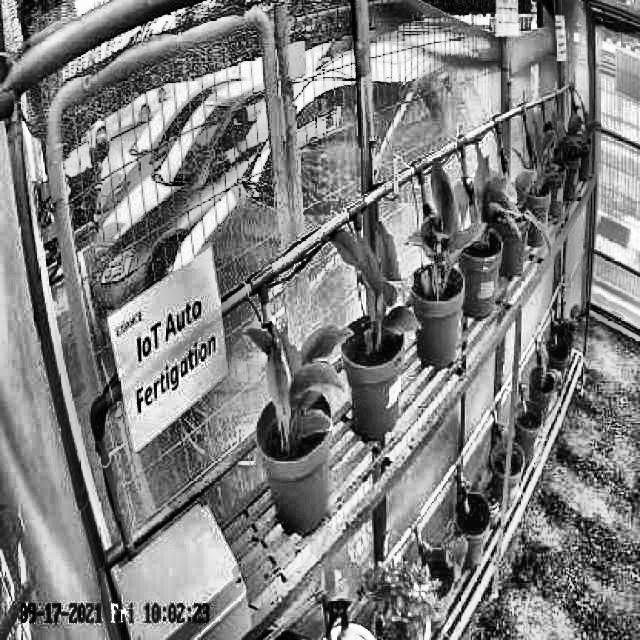plants: (241, 319, 357, 447), (331, 216, 422, 364), (410, 163, 488, 309), (456, 172, 522, 262)
